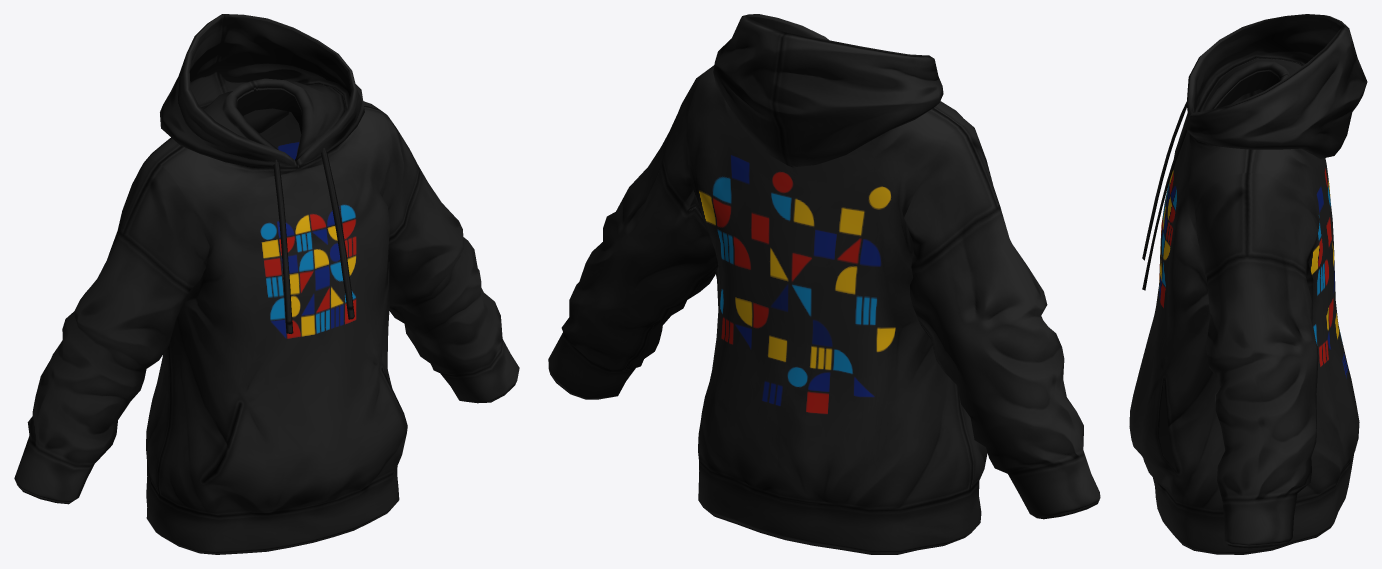
File: 59_hoodie_a.glb
The picture shows the model from 3 angles, left to right: view 1: azimuth 30°, elevation 25°; view 2: azimuth 150°, elevation 25°; view 3: azimuth 270°, elevation 25°; orthographic projection. The views are drawn at different scales.
Visible parts, largest first — view 1: hoodie_apose; view 2: hoodie_apose; view 3: hoodie_apose.
Boxes of the visible parts, x1,y1,x2,y2 form: hoodie_apose: (14,14,519,554); hoodie_apose: (548,14,1100,554); hoodie_apose: (1129,14,1367,554).
Bounding box in the file's own units: 0.9605 × 0.867 × 0.3915.
Materials: 1 (1 with a texture image).
